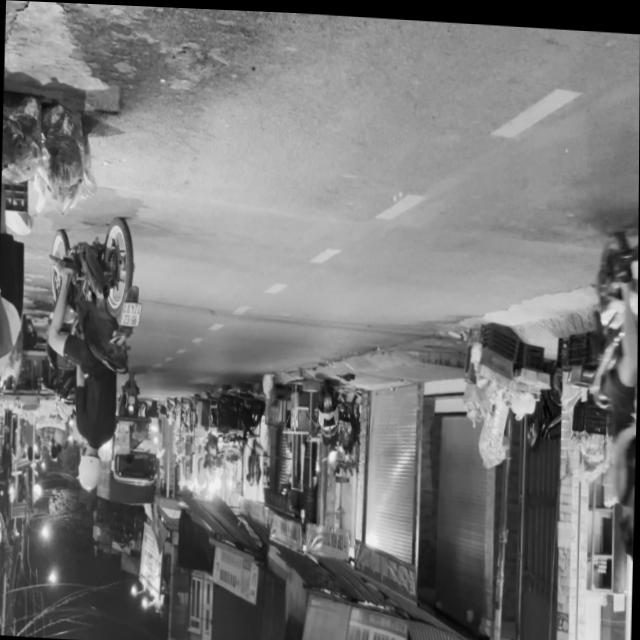helmet: (79, 446, 104, 491)
licenseplate: (42, 213, 145, 496), (581, 192, 639, 559)
motorcyclist: (619, 498, 634, 555)
nohelmet: (119, 301, 141, 326)
